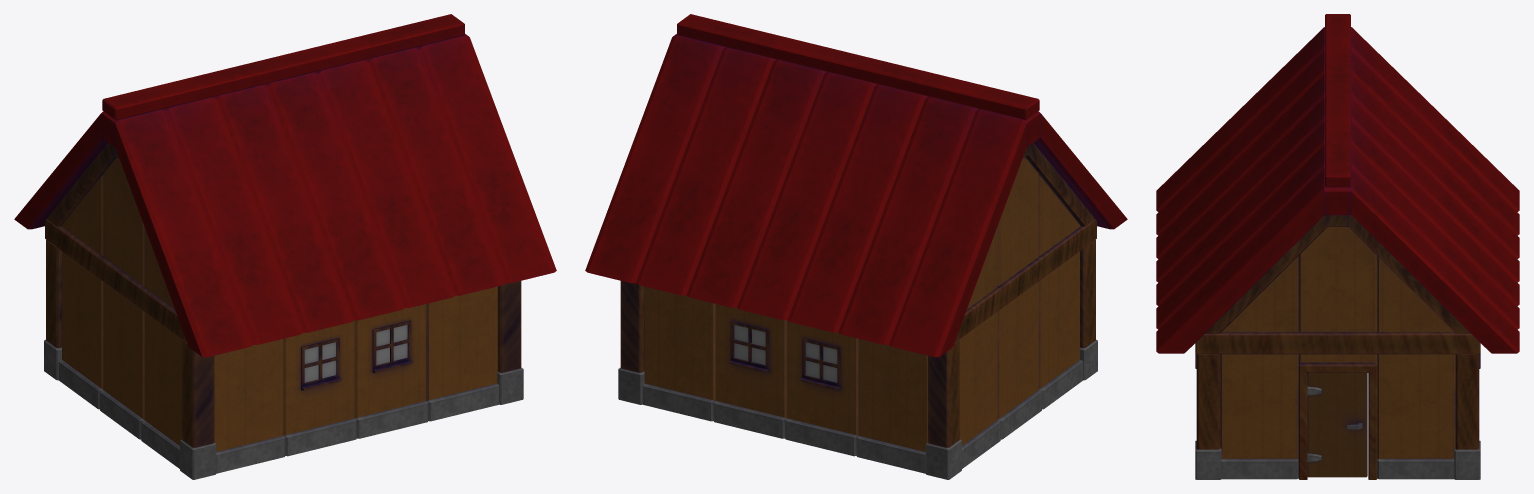
File: House 2.fbx
3 views of the same model, side by side, from view 1: azimuth 30°, elevation 25°; view 2: azimuth 150°, elevation 25°; view 3: azimuth 270°, elevation 25° (orthographic). The views are drawn at different scales.
Visible parts, largest first — view 1: Cube.154, Cube.108, Cube.151, Cube.152, Cube.149, Cube.150, Cube.153, Cube.112, Cube.128, Cube.127, Cube.111, Cube.129 (+20 smaller); view 2: Cube.154, Cube.108, Cube.151, Cube.152, Cube.149, Cube.150, Cube.153, Cube.112, Cube.134, Cube.137, Cube.136, Cube.135 (+20 smaller); view 3: Cube.108, Cube.103, Cube.113, Cube.151, Cube.154, Cube.150, Cube.149, Cube.152, Cube.153, Cube.110, Cube.100, Cube.098 (+12 smaller).
Part boxes in pixels (left/top/right/bottom): Cube.154: left=14, top=109, right=252, bottom=357; Cube.108: left=416, top=34, right=556, bottom=283; Cube.151: left=214, top=84, right=353, bottom=332; Cube.152: left=264, top=72, right=404, bottom=320; Cube.149: left=366, top=47, right=505, bottom=295; Cube.150: left=315, top=59, right=455, bottom=307; Cube.153: left=163, top=96, right=303, bottom=344; Cube.112: left=102, top=14, right=464, bottom=120; Cube.128: left=283, top=320, right=354, bottom=435; Cube.127: left=426, top=286, right=497, bottom=400; Cube.111: left=355, top=304, right=426, bottom=418; Cube.129: left=214, top=339, right=283, bottom=451; Cube.154: left=889, top=109, right=1127, bottom=357; Cube.108: left=585, top=34, right=725, bottom=283; Cube.151: left=788, top=84, right=927, bottom=332; Cube.152: left=737, top=72, right=877, bottom=320; Cube.149: left=636, top=47, right=775, bottom=295; Cube.150: left=686, top=59, right=826, bottom=307; Cube.153: left=838, top=96, right=978, bottom=344; Cube.112: left=677, top=14, right=1039, bottom=120; Cube.134: left=787, top=320, right=858, bottom=435; Cube.137: left=644, top=286, right=715, bottom=400; Cube.136: left=715, top=304, right=786, bottom=418; Cube.135: left=858, top=339, right=927, bottom=451; Cube.108: left=1156, top=168, right=1519, bottom=353; Cube.103: left=1220, top=354, right=1298, bottom=459; Cube.113: left=1377, top=354, right=1455, bottom=459; Cube.151: left=1156, top=74, right=1519, bottom=258; Cube.154: left=1156, top=27, right=1519, bottom=211; Cube.150: left=1156, top=121, right=1519, bottom=305; Cube.149: left=1156, top=144, right=1519, bottom=329; Cube.152: left=1156, top=97, right=1519, bottom=282; Cube.153: left=1156, top=50, right=1519, bottom=235; Cube.110: left=1298, top=227, right=1377, bottom=332; Cube.100: left=1307, top=373, right=1367, bottom=477; Cube.098: left=1195, top=331, right=1480, bottom=354.
Size of the model in its own units: 298 by 260 by 278.
